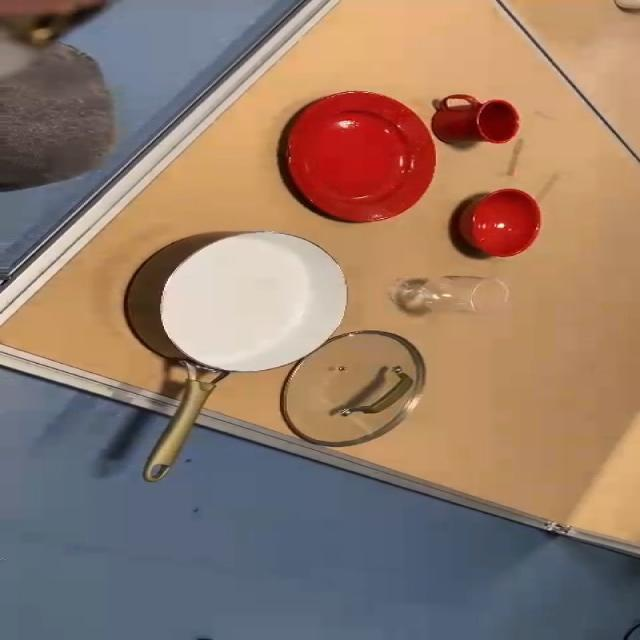Bowl: (447, 187, 545, 258)
Glass: (390, 276, 518, 315)
Plate: (278, 91, 445, 222)
cup: (430, 92, 532, 144)
pot: (118, 228, 350, 492)
